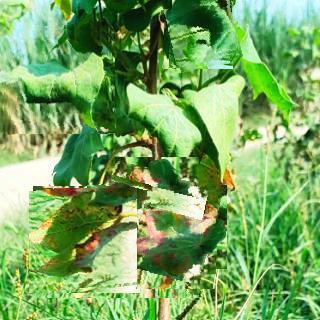blight: (95, 166, 219, 289), (31, 188, 137, 296)
curl: (1, 24, 115, 134), (164, 0, 239, 69)
